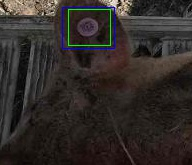text: (68, 9, 110, 45)
